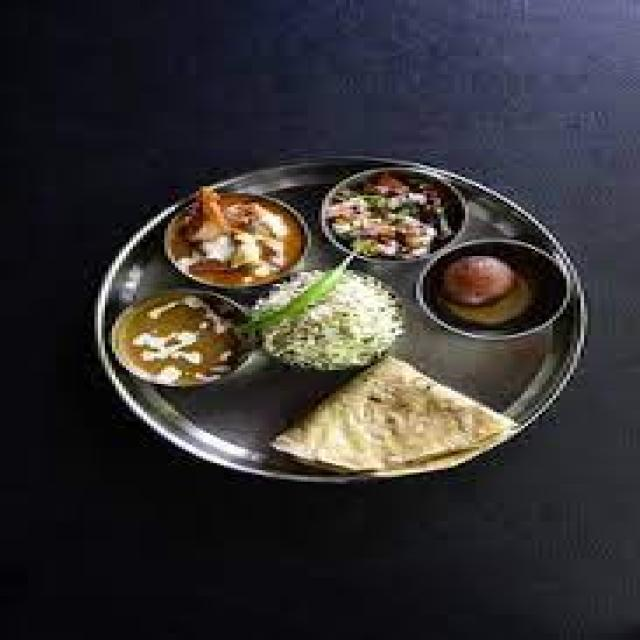papad: (271, 364, 514, 473)
rice: (240, 268, 418, 377)
sambar-rasam: (420, 245, 548, 326)
sweet: (419, 249, 559, 323)
veg-fry: (154, 184, 309, 289)
